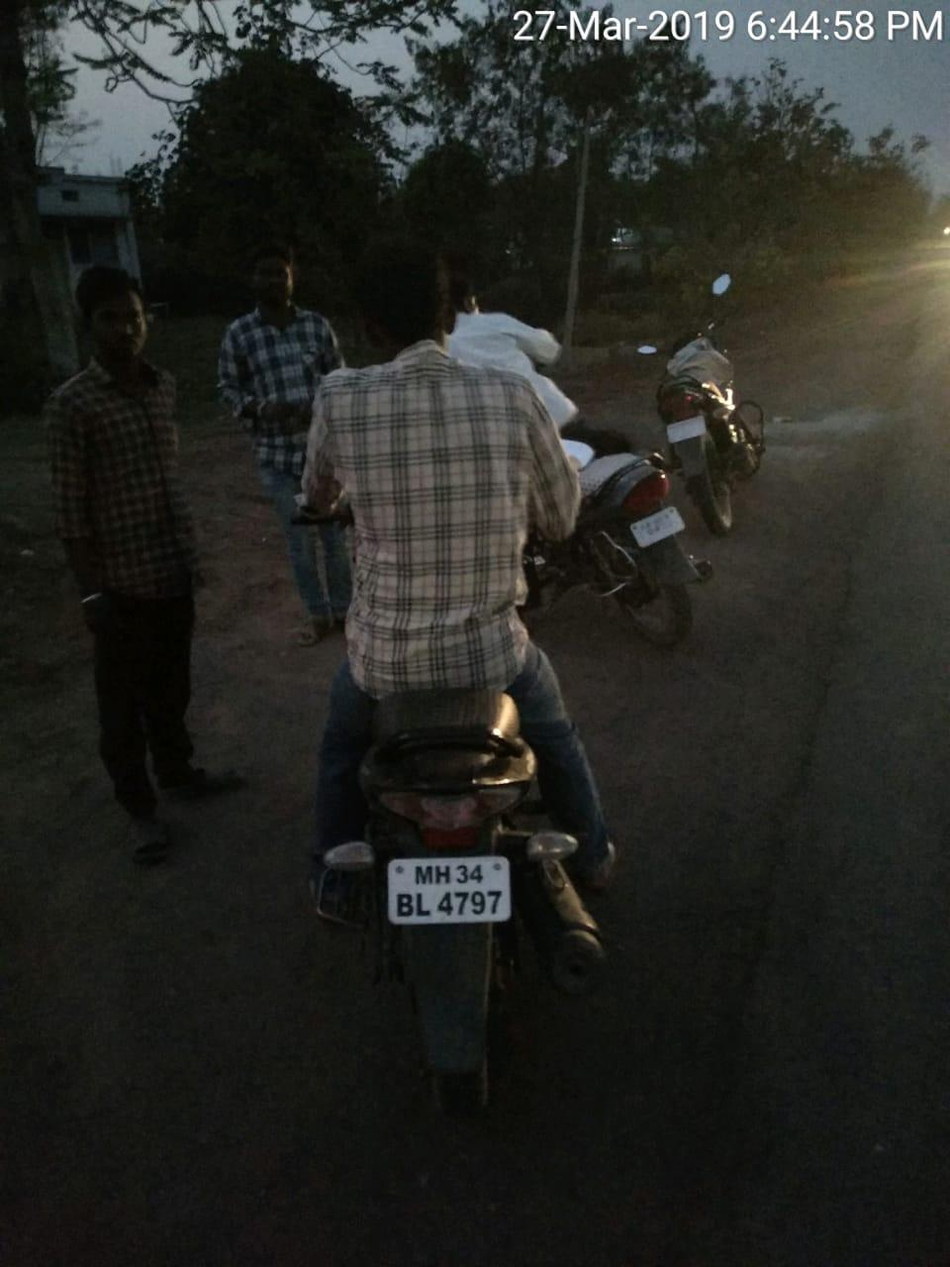plate: (375, 844, 526, 948)
